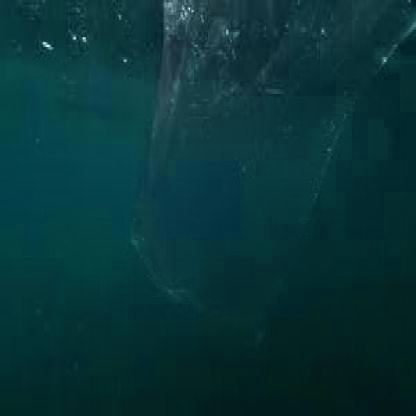pbag: (127, 2, 416, 351)
